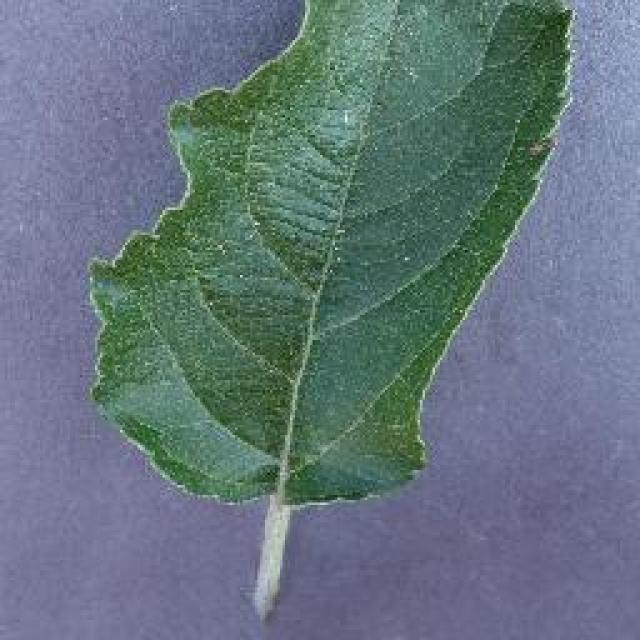Apple___healthy: (85, 0, 582, 512)
